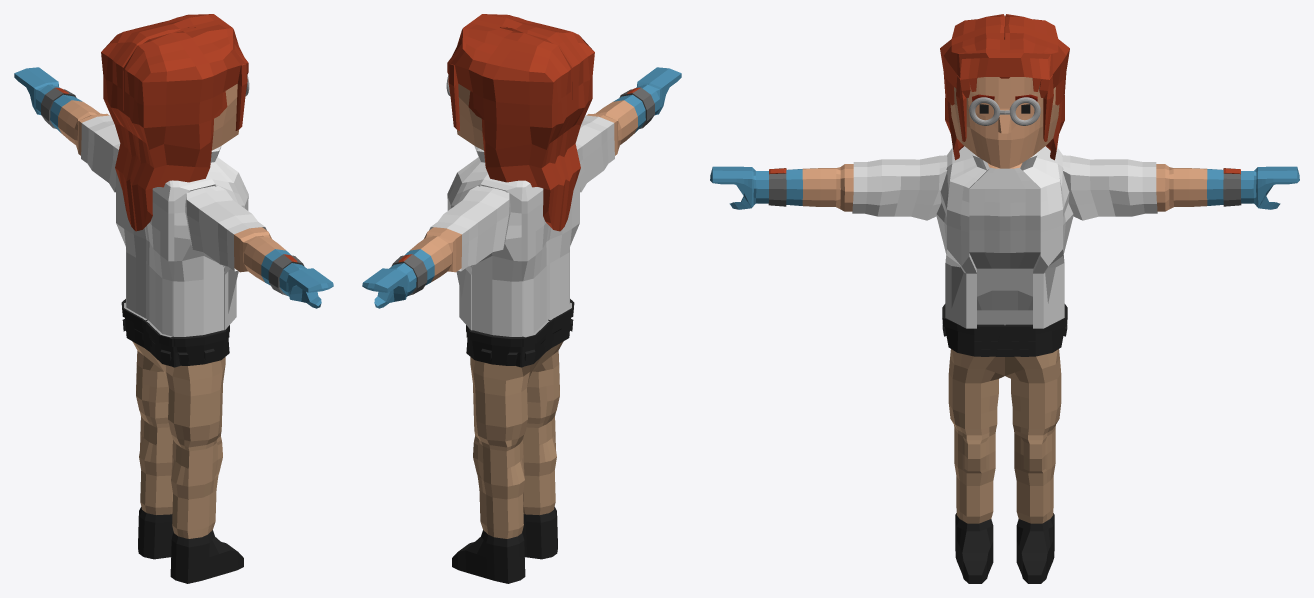
The model's file is Eugenie.fbx.
The picture shows the model from 3 angles, left to right: view 1: azimuth 30°, elevation 25°; view 2: azimuth 150°, elevation 25°; view 3: azimuth 270°, elevation 25°; orthographic projection.
Parts seen in each view (by area): view 1: Cube.003; view 2: Cube.003; view 3: Cube.003.
Boxes of the visible parts, box(x1,y1,x2,y2) form: Cube.003: box(14, 14, 333, 583); Cube.003: box(362, 14, 681, 583); Cube.003: box(710, 14, 1299, 583).
Bounding box in the file's own units: 130 × 560 × 562.
1 material, 1 textured.
